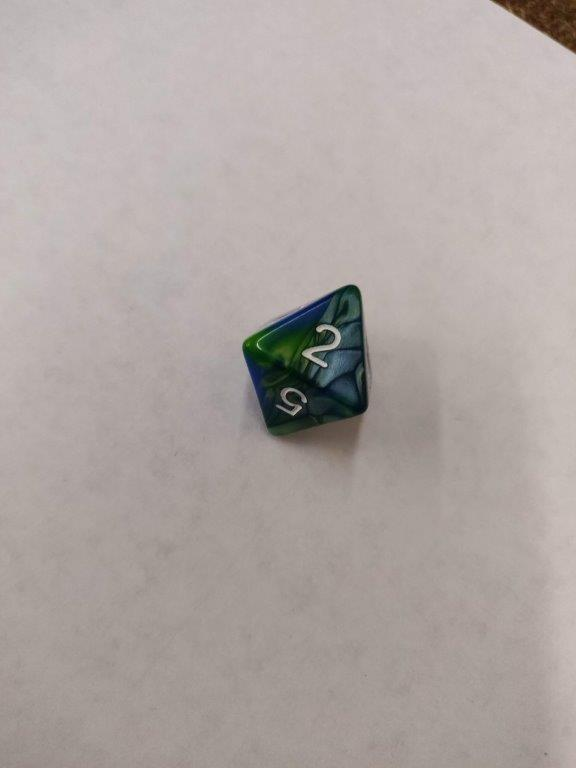d8-2: (244, 285, 374, 439)
